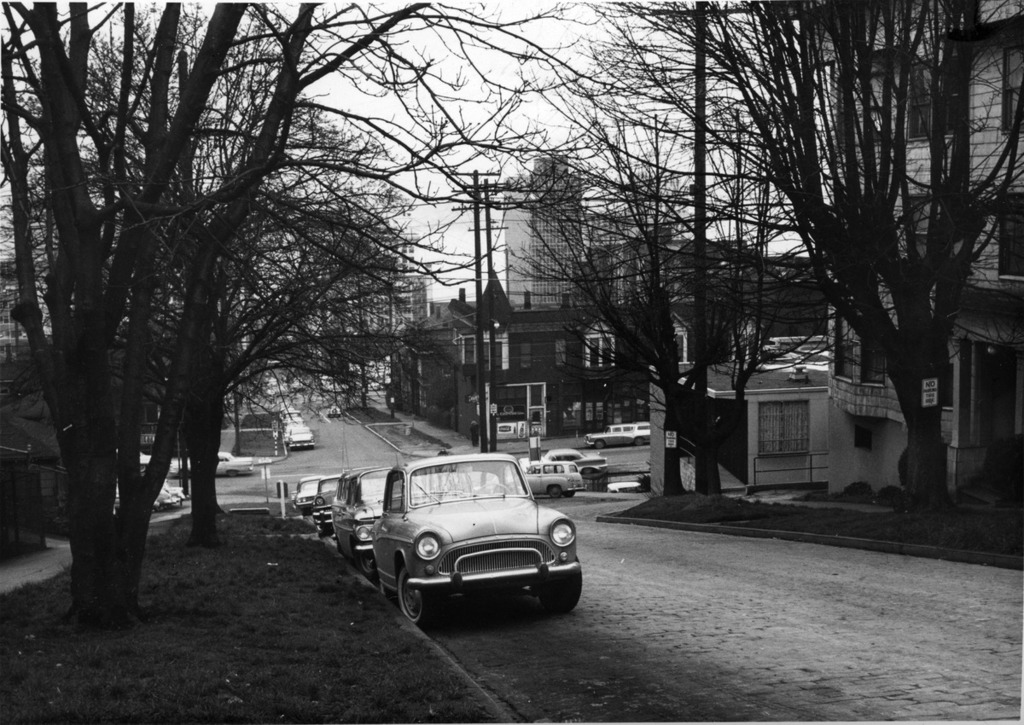Tree: (0, 2, 584, 627), (479, 0, 1019, 526), (483, 103, 837, 493)
